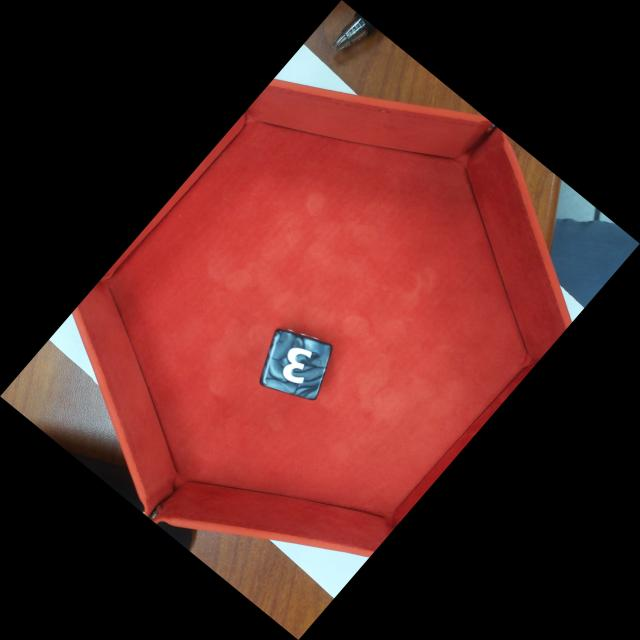dice: (262, 328, 334, 400)
